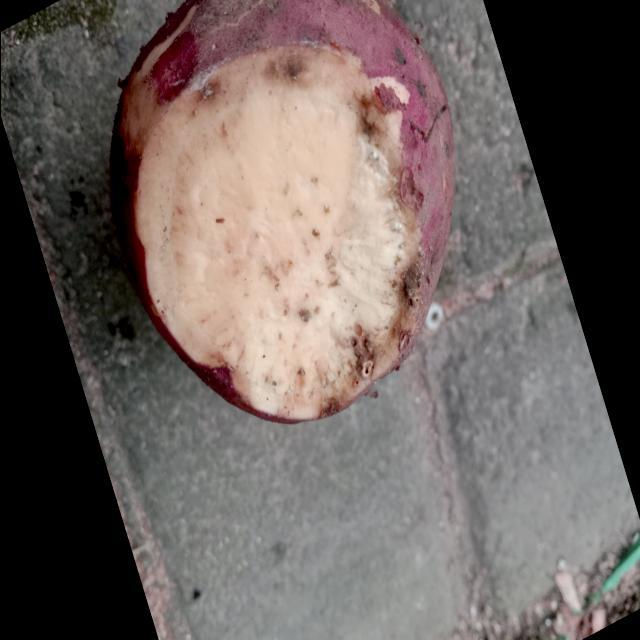Sick Sweet Potato_Tuber Rot: (134, 47, 419, 418)
